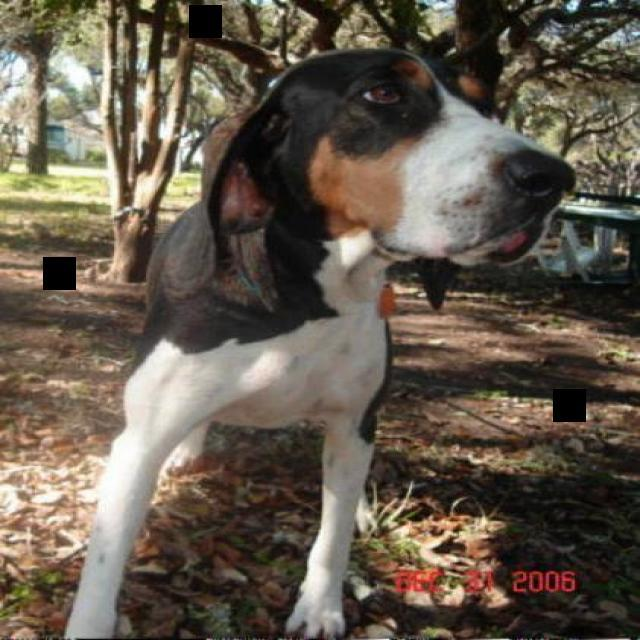adult_dog: (56, 46, 581, 640)
